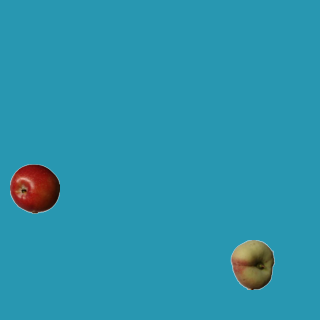Apple Braeburn: (9, 163, 59, 213)
Peach Flat: (227, 239, 277, 289)
